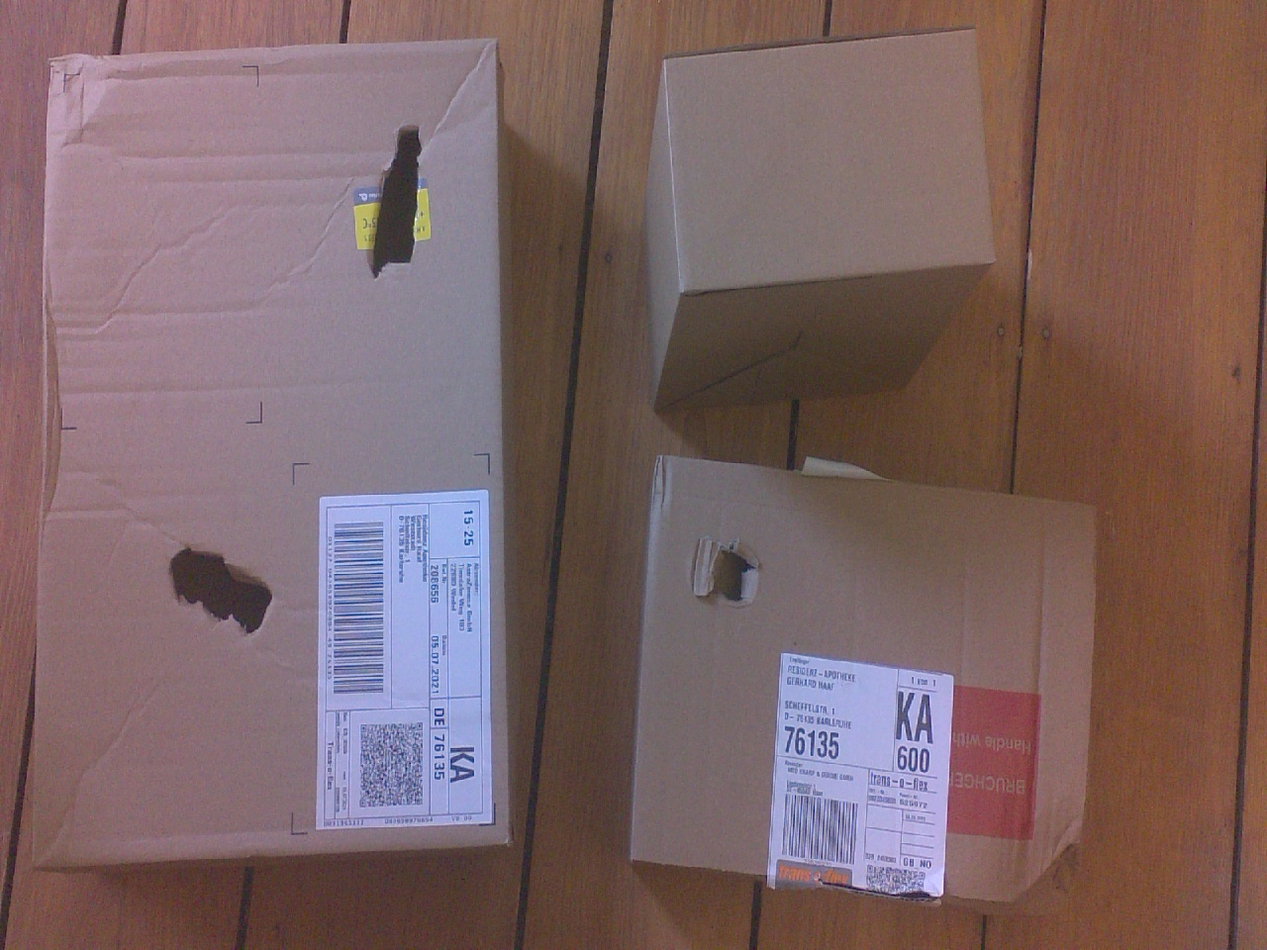good-parcel: (636, 28, 1002, 415)
